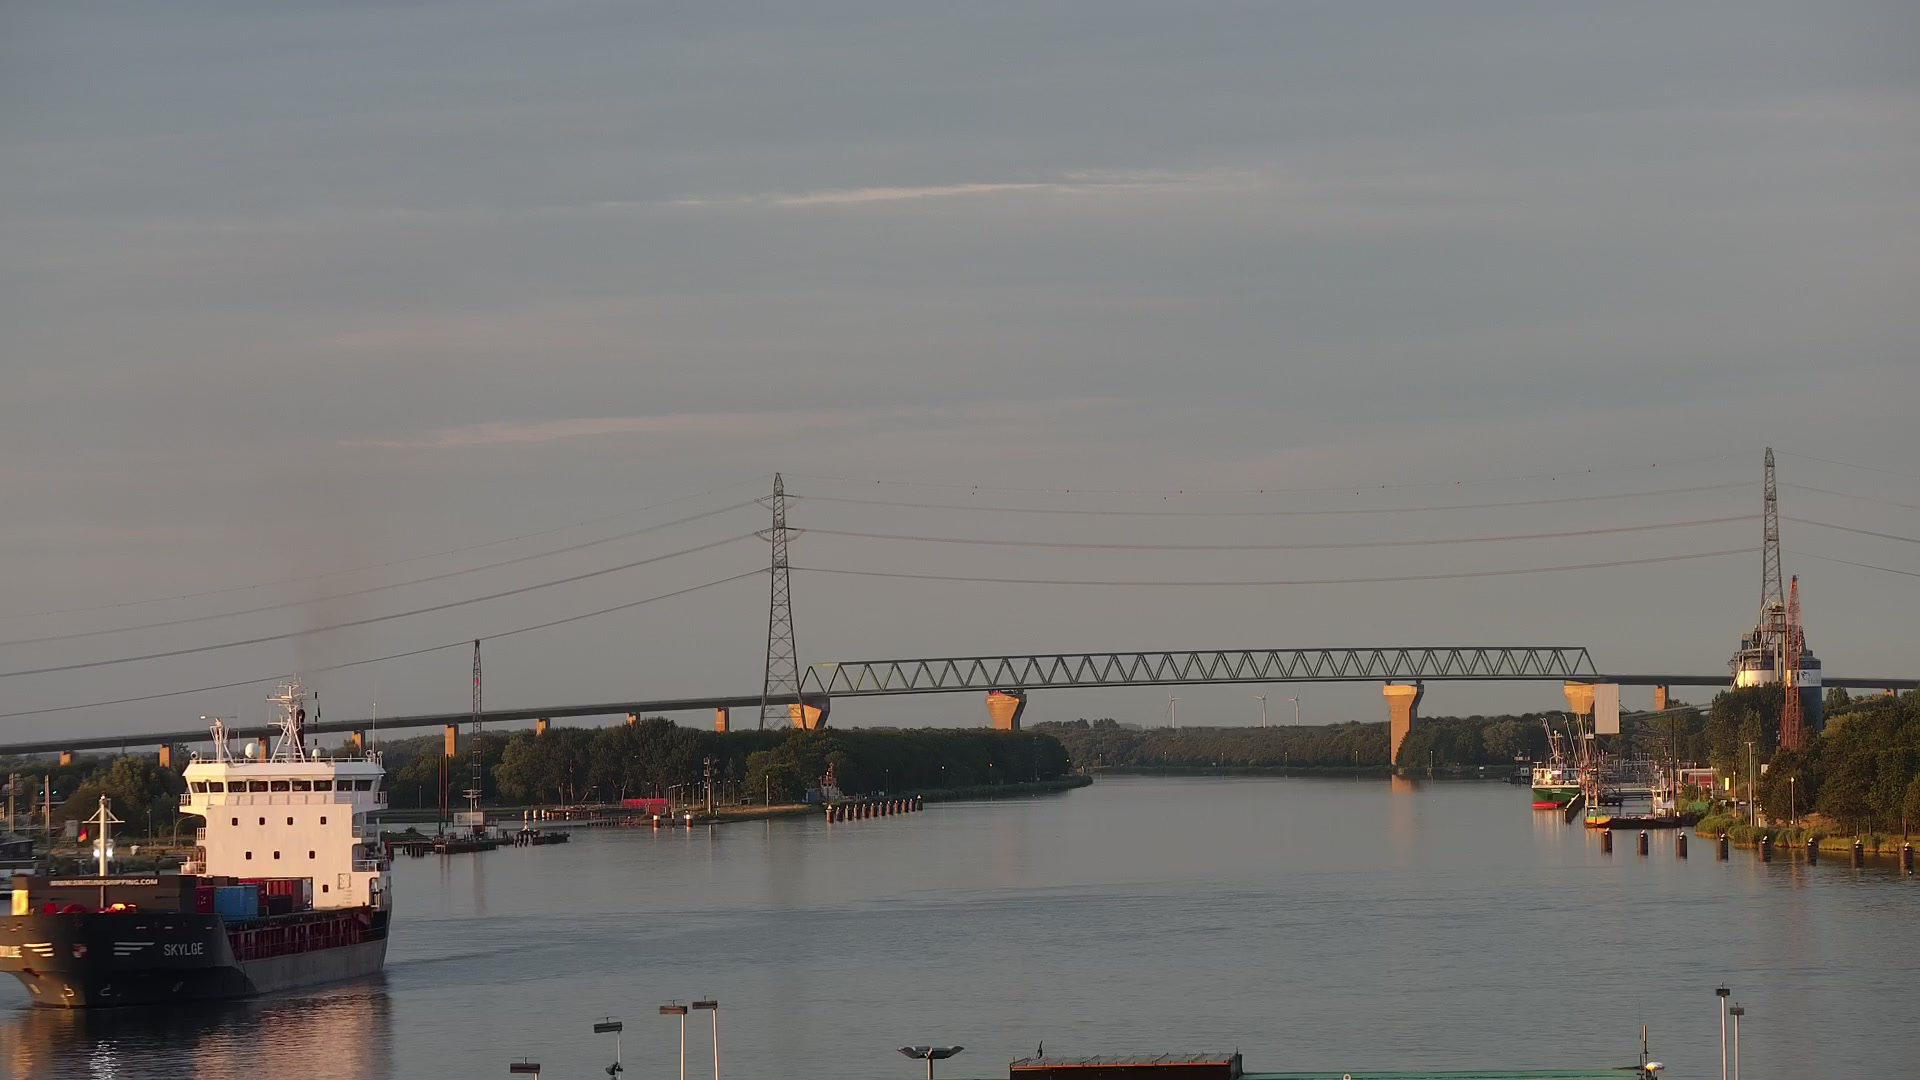sea: (1, 673, 393, 1009), (1581, 789, 1684, 828), (1528, 761, 1578, 811)
